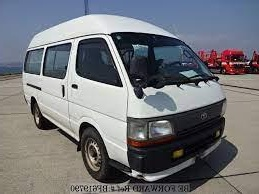van: (19, 14, 229, 178)
